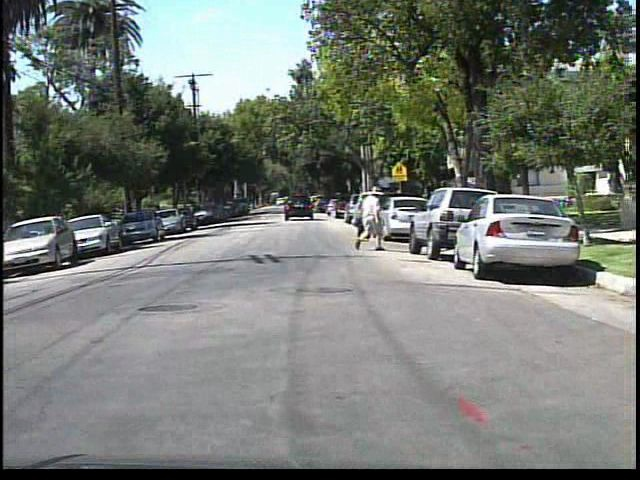person: (348, 184, 390, 255)
